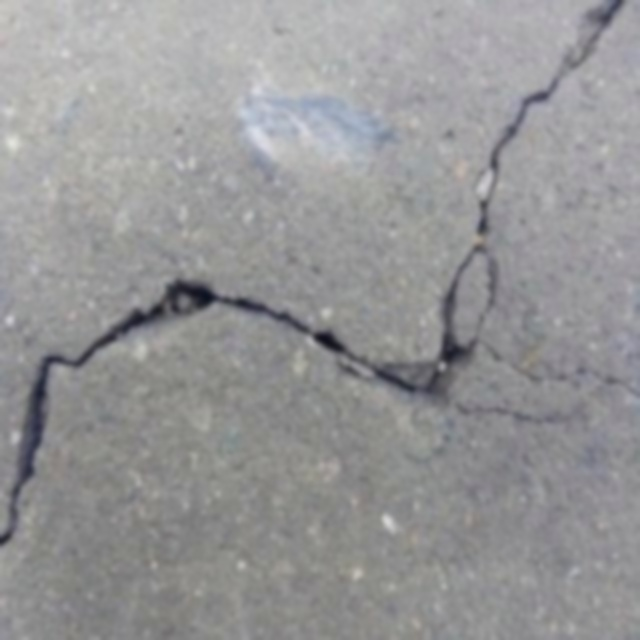SurfaceCrack: (0, 266, 420, 578), (350, 0, 640, 412)
